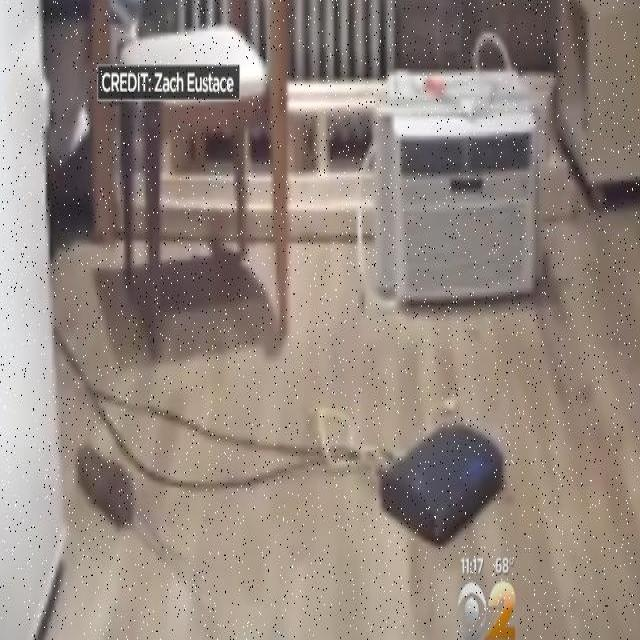rat: (71, 432, 151, 536)
